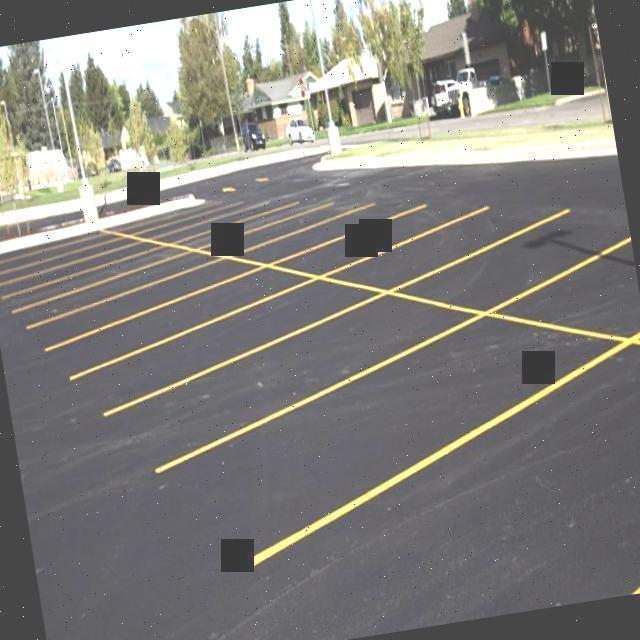space-empty: (152, 308, 638, 574), (245, 333, 640, 607), (99, 288, 490, 476), (64, 273, 391, 423), (37, 260, 322, 384), (381, 209, 631, 314), (314, 202, 573, 293), (261, 200, 491, 283)
